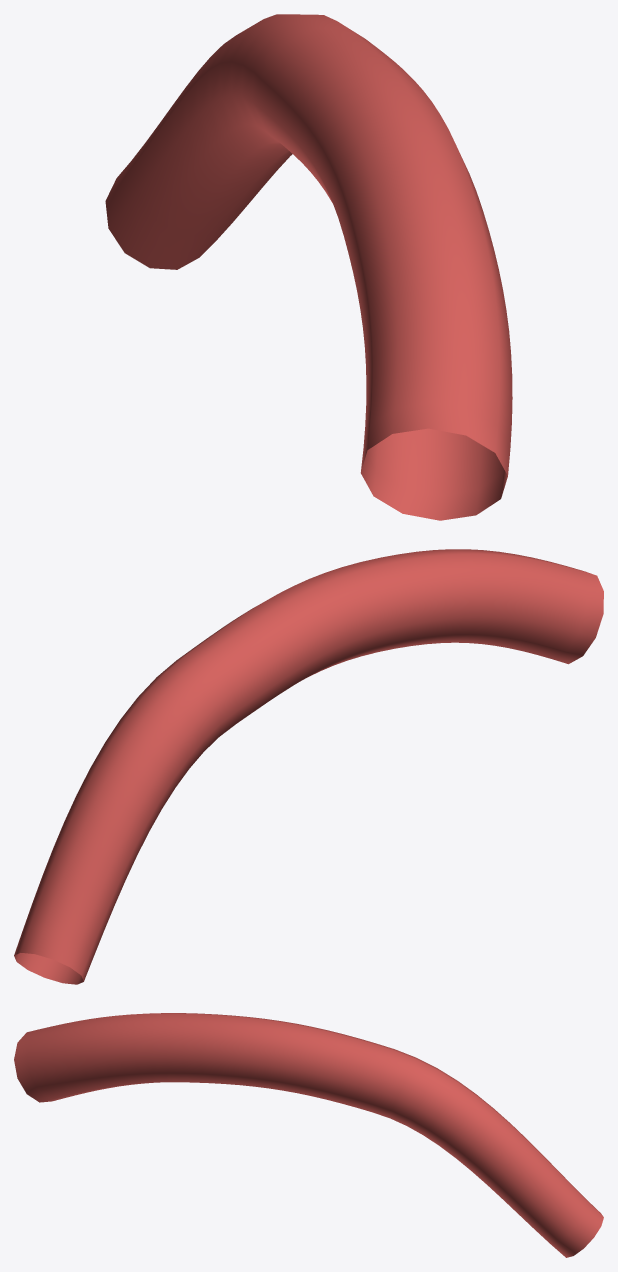
The picture shows the model from 3 angles, top to bottom: view 1: azimuth 30°, elevation 25°; view 2: azimuth 150°, elevation 25°; view 3: azimuth 270°, elevation 25°; orthographic projection. The views are drawn at different scales.
Parts seen in each view (by area): view 1: 左侧髂外动脉; view 2: 左侧髂外动脉; view 3: 左侧髂外动脉.
Boxes of the visible parts, x1=… form: 左侧髂外动脉: x1=105, y1=14, x2=512, y2=520; 左侧髂外动脉: x1=14, y1=549, x2=603, y2=984; 左侧髂外动脉: x1=14, y1=1013, x2=603, y2=1257.
Size of the model in its own units: 0.0515 by 0.0551 by 0.1407.
